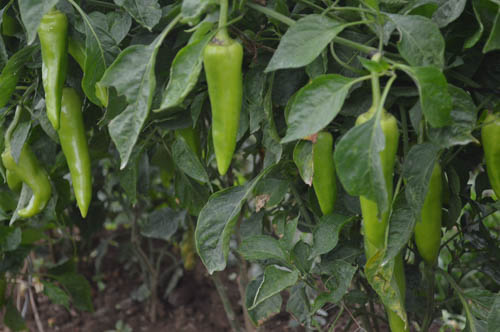ChiliPepper: (358, 116, 398, 243), (203, 43, 241, 175), (56, 91, 96, 216), (34, 13, 66, 129), (371, 240, 407, 330), (6, 147, 50, 218), (412, 165, 441, 259), (307, 133, 336, 214)
